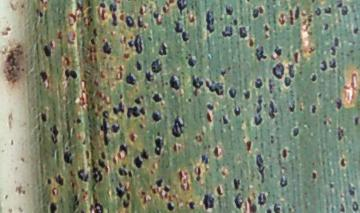tarspot: (204, 78, 225, 97), (255, 152, 267, 185), (252, 93, 264, 125), (100, 110, 110, 148), (89, 158, 104, 183), (190, 74, 205, 98), (171, 114, 185, 138), (128, 34, 143, 56), (204, 9, 217, 33), (48, 123, 60, 145), (108, 3, 119, 27), (266, 97, 277, 120), (271, 62, 285, 80), (255, 44, 268, 63), (203, 192, 215, 211), (125, 106, 140, 120), (219, 25, 235, 38), (150, 58, 163, 74), (285, 62, 297, 79), (101, 39, 113, 56), (246, 195, 257, 213), (169, 73, 180, 91), (135, 15, 147, 31), (89, 201, 105, 213), (233, 192, 244, 209), (64, 68, 77, 82), (251, 6, 265, 19), (54, 173, 67, 187), (62, 151, 74, 166), (157, 41, 168, 57), (153, 137, 162, 156), (150, 91, 163, 104), (176, 1, 188, 15), (77, 168, 89, 182), (186, 55, 198, 69), (124, 15, 136, 29), (333, 96, 344, 111), (346, 183, 357, 198), (114, 186, 125, 201), (151, 12, 162, 27), (173, 19, 183, 35), (71, 193, 79, 213), (112, 102, 125, 114), (238, 25, 249, 39), (125, 71, 136, 85), (276, 12, 287, 26), (336, 124, 345, 141), (293, 4, 302, 21), (257, 191, 267, 206), (328, 56, 338, 71), (42, 43, 52, 58), (253, 77, 264, 90), (139, 148, 150, 161), (340, 4, 351, 17), (233, 176, 241, 193), (76, 1, 84, 18), (288, 8, 295, 27), (241, 89, 252, 101), (67, 11, 78, 23), (228, 86, 238, 99), (133, 156, 143, 169), (143, 71, 153, 84), (180, 30, 190, 43), (195, 165, 203, 181), (279, 174, 288, 188), (267, 76, 274, 94), (150, 111, 161, 122), (38, 71, 49, 82), (117, 144, 128, 155), (273, 45, 283, 57), (96, 159, 108, 169), (200, 153, 210, 165), (233, 103, 242, 116), (221, 113, 230, 126), (283, 76, 292, 89), (224, 4, 233, 17), (62, 55, 71, 68), (310, 103, 318, 117), (288, 100, 296, 114), (186, 14, 196, 25), (110, 124, 121, 134), (117, 168, 128, 178), (291, 126, 300, 138), (319, 59, 328, 71), (132, 96, 144, 105), (205, 111, 213, 124), (177, 169, 185, 182), (273, 202, 282, 213), (128, 132, 137, 143), (245, 139, 252, 153), (352, 116, 360, 128), (49, 201, 57, 213), (135, 60, 143, 72), (138, 5, 146, 17), (155, 177, 163, 189), (293, 51, 300, 64), (87, 14, 94, 27), (206, 101, 215, 111), (328, 46, 337, 56), (261, 22, 270, 32), (338, 202, 346, 213), (310, 72, 318, 83), (212, 146, 220, 157), (138, 106, 146, 117), (314, 7, 322, 18), (351, 200, 358, 212), (216, 183, 223, 195), (333, 36, 340, 48), (247, 36, 254, 48), (110, 154, 117, 166), (166, 202, 175, 211), (137, 122, 146, 131), (162, 183, 170, 193), (122, 51, 130, 61), (339, 157, 346, 168), (281, 147, 288, 158), (40, 112, 47, 123), (171, 141, 178, 152), (88, 37, 96, 46), (323, 6, 332, 14), (322, 22, 330, 31), (231, 17, 239, 26), (121, 200, 129, 209), (161, 6, 170, 14), (163, 1, 175, 7), (37, 10, 45, 19), (193, 134, 202, 142), (188, 201, 195, 211), (91, 27, 98, 37), (100, 150, 107, 160), (125, 191, 131, 202), (269, 133, 275, 144), (310, 171, 318, 179), (352, 26, 359, 35), (263, 32, 270, 41), (117, 92, 124, 101), (306, 14, 313, 23), (328, 181, 335, 190), (46, 177, 52, 187), (219, 70, 226, 78), (146, 35, 153, 43), (142, 195, 147, 206), (336, 1, 342, 9), (127, 170, 133, 178), (75, 118, 83, 124), (139, 190, 147, 196), (322, 119, 328, 127), (99, 2, 106, 8), (155, 130, 161, 137), (265, 208, 273, 213), (187, 97, 193, 103), (86, 1, 91, 7), (78, 209, 85, 213), (38, 1, 44, 5), (311, 1, 315, 4), (245, 1, 250, 3)
